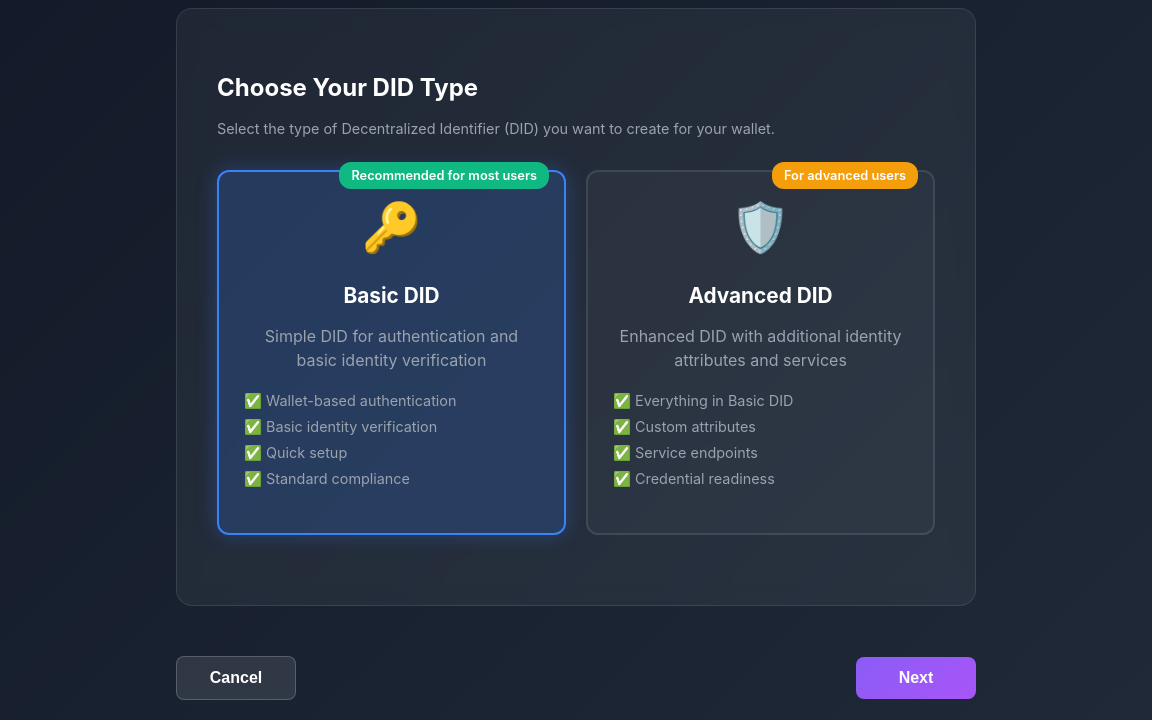
Test case: DIDWizard › Step 3: Preview › shows correct chain type for Ethereum
(page scrolled)
What coordinates should you click on to do the following:
click the button "Next"
I would click on:
 (916, 678)
Its box is [856, 657, 976, 699].
(page scrolled)
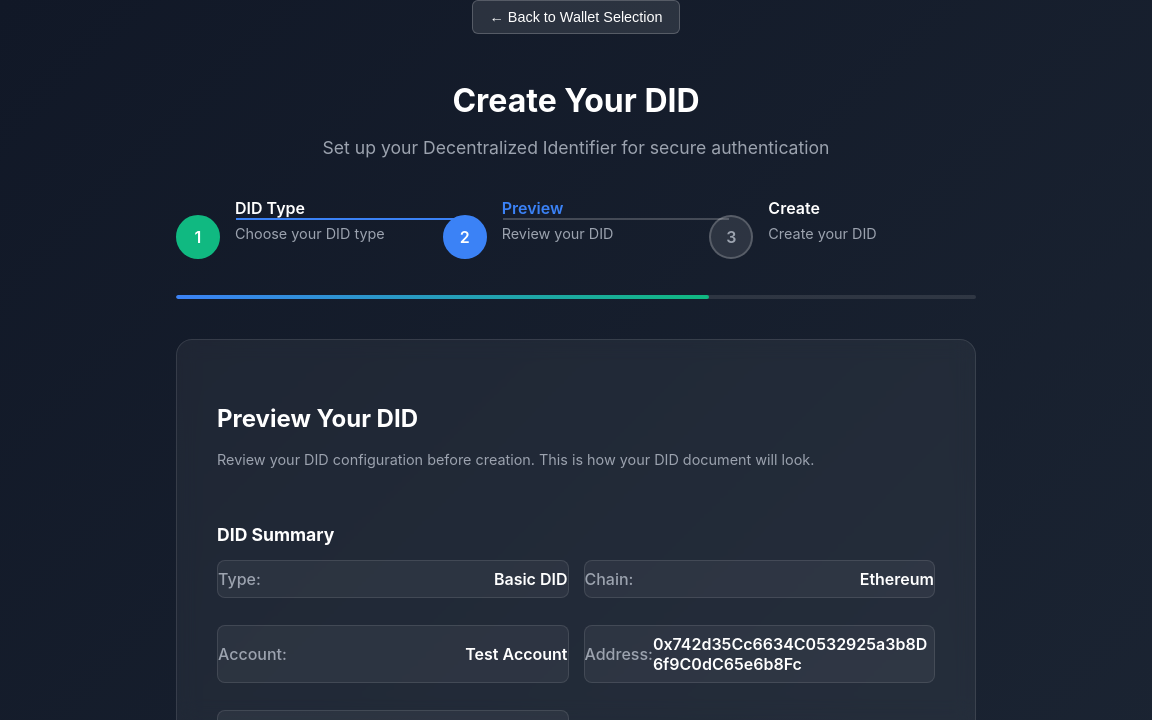
expect the text "Ethereum" is shown: met, box [860, 569, 934, 589]
